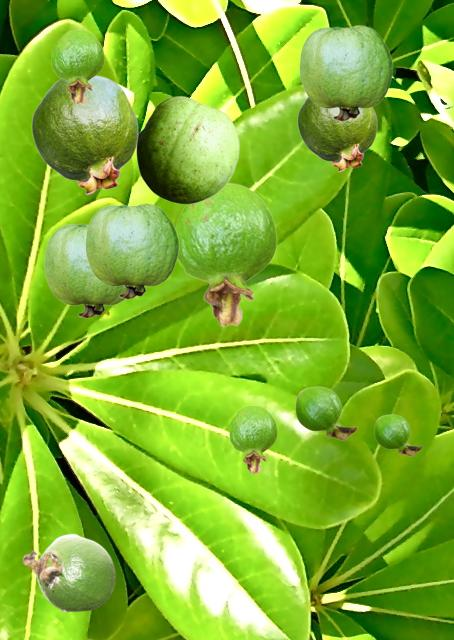guava: (175, 182, 276, 326), (31, 75, 137, 194), (136, 96, 238, 203), (85, 203, 178, 298), (299, 25, 392, 120), (44, 223, 125, 317), (22, 533, 115, 611), (297, 97, 376, 171), (51, 29, 103, 103), (295, 386, 356, 439), (229, 405, 276, 473), (374, 414, 421, 455)
